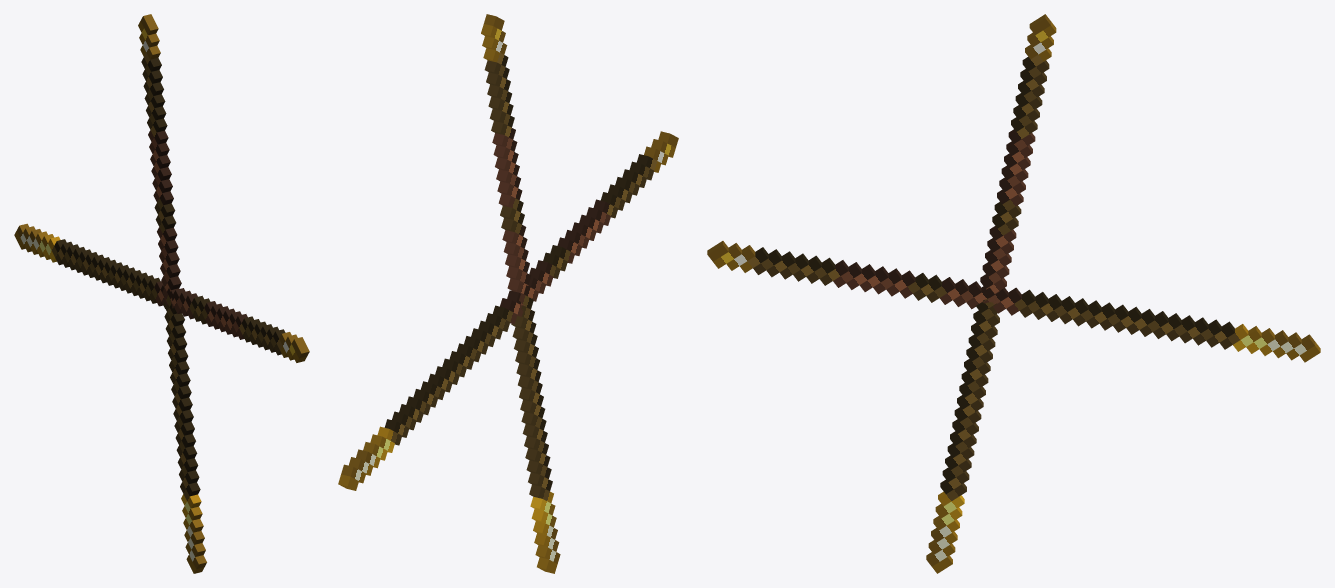
Rendered from gold_pike.glb.
3 views of the same model, side by side, from view 1: azimuth 30°, elevation 25°; view 2: azimuth 150°, elevation 25°; view 3: azimuth 270°, elevation 25° (orthographic). The views are drawn at different scales.
Parts seen in each view (by area): view 1: off__Tool_L, main__Tool_R; view 2: off__Tool_L, main__Tool_R; view 3: main__Tool_R, off__Tool_L.
Part boxes in pixels (x1,y1,x2,y2): off__Tool_L: [138, 14, 206, 573]; main__Tool_R: [14, 223, 309, 362]; off__Tool_L: [481, 14, 560, 573]; main__Tool_R: [338, 131, 678, 490]; main__Tool_R: [707, 241, 1320, 362]; off__Tool_L: [926, 14, 1056, 573].
Size of the model in its own units: 0.0625 by 3.75 by 3.75.
1 material, 1 textured.
